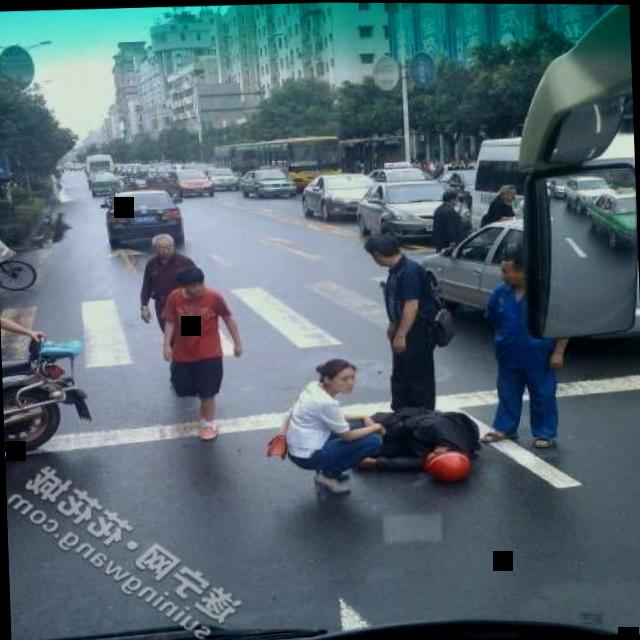Fall-Detected: (322, 390, 500, 490)
